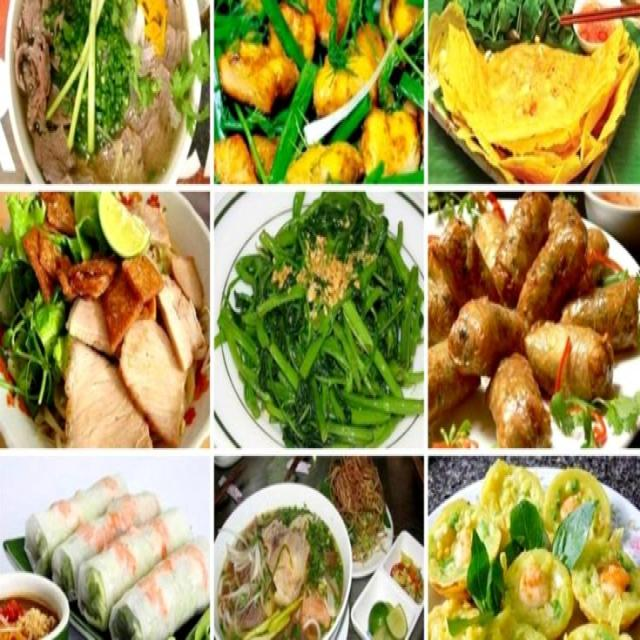banh khot: (428, 459, 640, 640)
banh xeo: (431, 0, 640, 182)
bun bo: (213, 472, 351, 640)
cha ram: (427, 193, 640, 456)
goi cuon: (67, 472, 210, 640)
rau muong xao toi: (215, 192, 422, 447)
